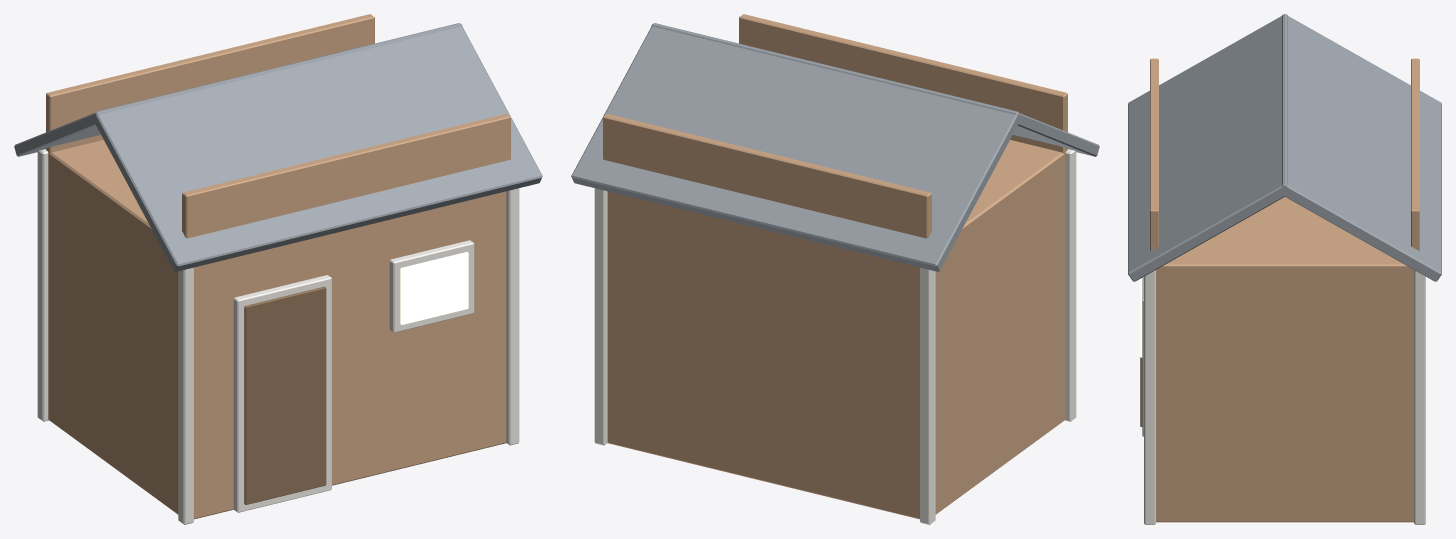
3 renders of one model, left to right at view 1: azimuth 30°, elevation 25°; view 2: azimuth 150°, elevation 25°; view 3: azimuth 270°, elevation 25°, orthographic. The views are drawn at different scales.
Visible parts, largest first — view 1: Shed; view 2: Shed; view 3: Shed.
Boxes of the visible parts, x1=… form: Shed: x1=14, y1=14, x2=542, y2=524; Shed: x1=571, y1=14, x2=1099, y2=524; Shed: x1=1128, y1=14, x2=1441, y2=524.
Bounding box in the file's own units: 2.7 × 2.56 × 2.09.
